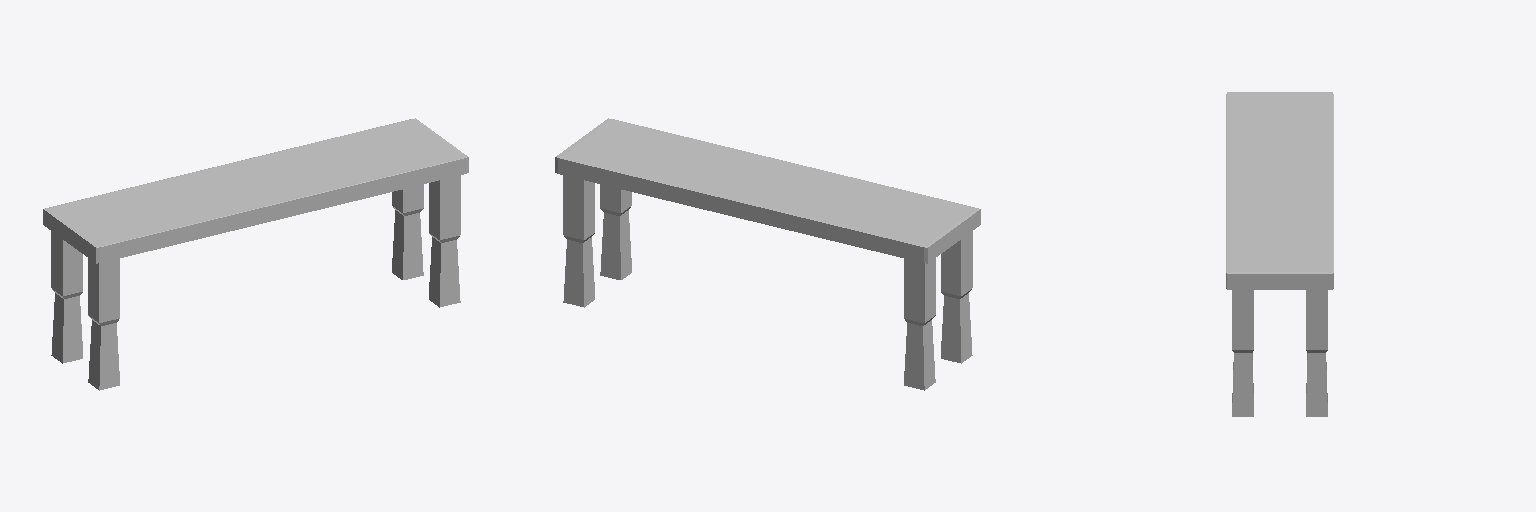
File: Bench.obj
The picture shows the model from 3 angles: view 1: azimuth 30°, elevation 25°; view 2: azimuth 150°, elevation 25°; view 3: azimuth 270°, elevation 25°; orthographic projection.
Parts seen in each view (by area): view 1: Bench; view 2: Bench; view 3: Bench.
Boxes of the visible parts, x1,y1,x2,y2 form: Bench: [43, 118, 468, 390]; Bench: [555, 118, 980, 390]; Bench: [1226, 92, 1333, 416].
Bounding box in the file's own units: 1.2 × 0.4499 × 0.3.